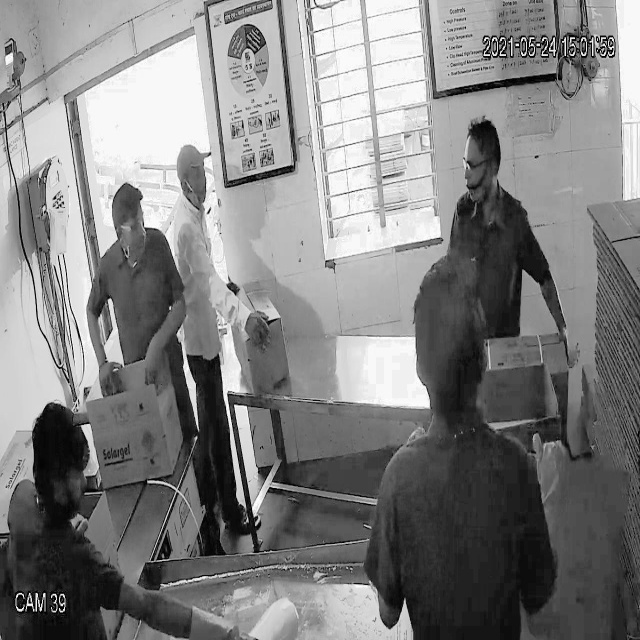Gafas: (461, 149, 498, 180), (110, 211, 150, 239)
